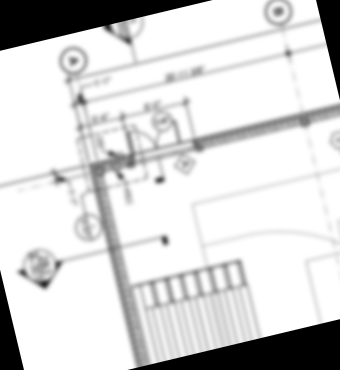double door: (127, 118, 184, 159)
wall: (85, 159, 144, 368), (94, 164, 152, 367), (194, 108, 340, 155), (191, 102, 340, 146), (86, 152, 136, 175)
